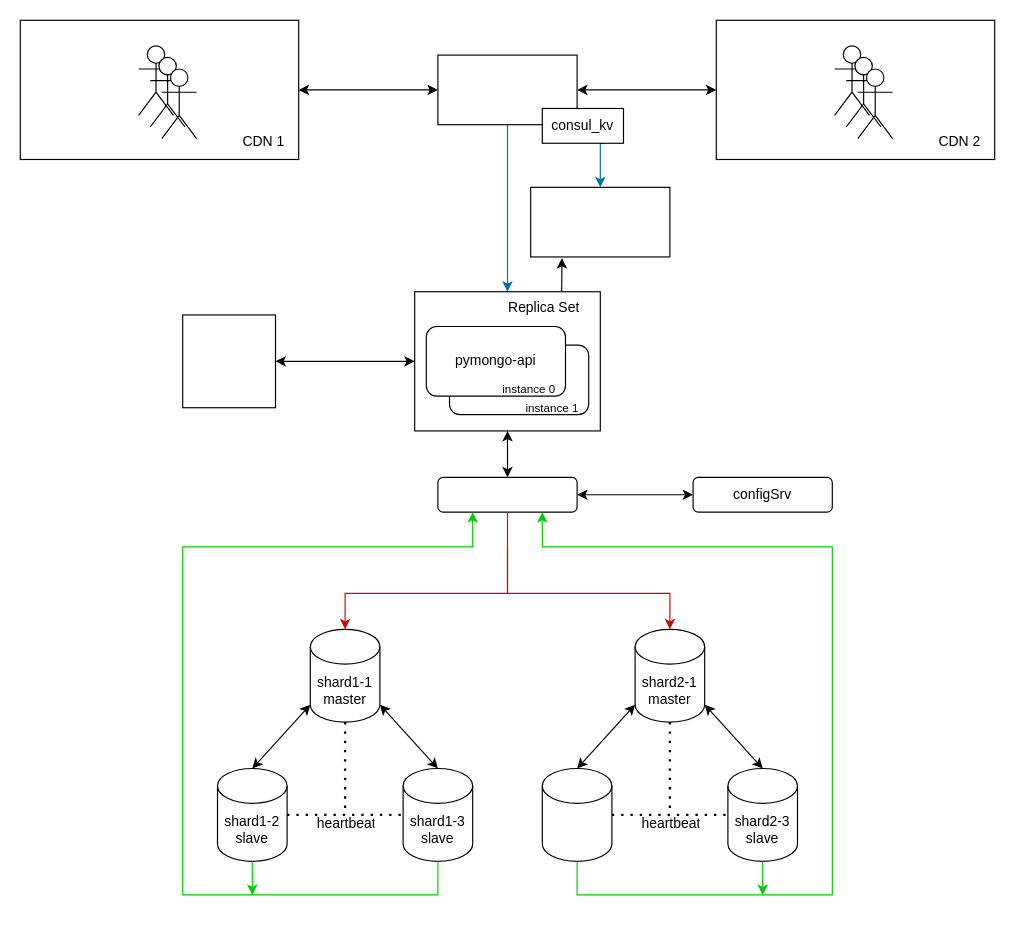
Some shapes in this 1015 by 925 pixel diagram are drawn without their labels. Each missing label, with the centre of its shape:
"APISIX Gateway" goes at (x=507, y=89).
"Consul" goes at (x=600, y=221).
"Redis" goes at (x=229, y=361).
"router" goes at (x=507, y=494).
"shard2-2 slave" goes at (x=576, y=814).
